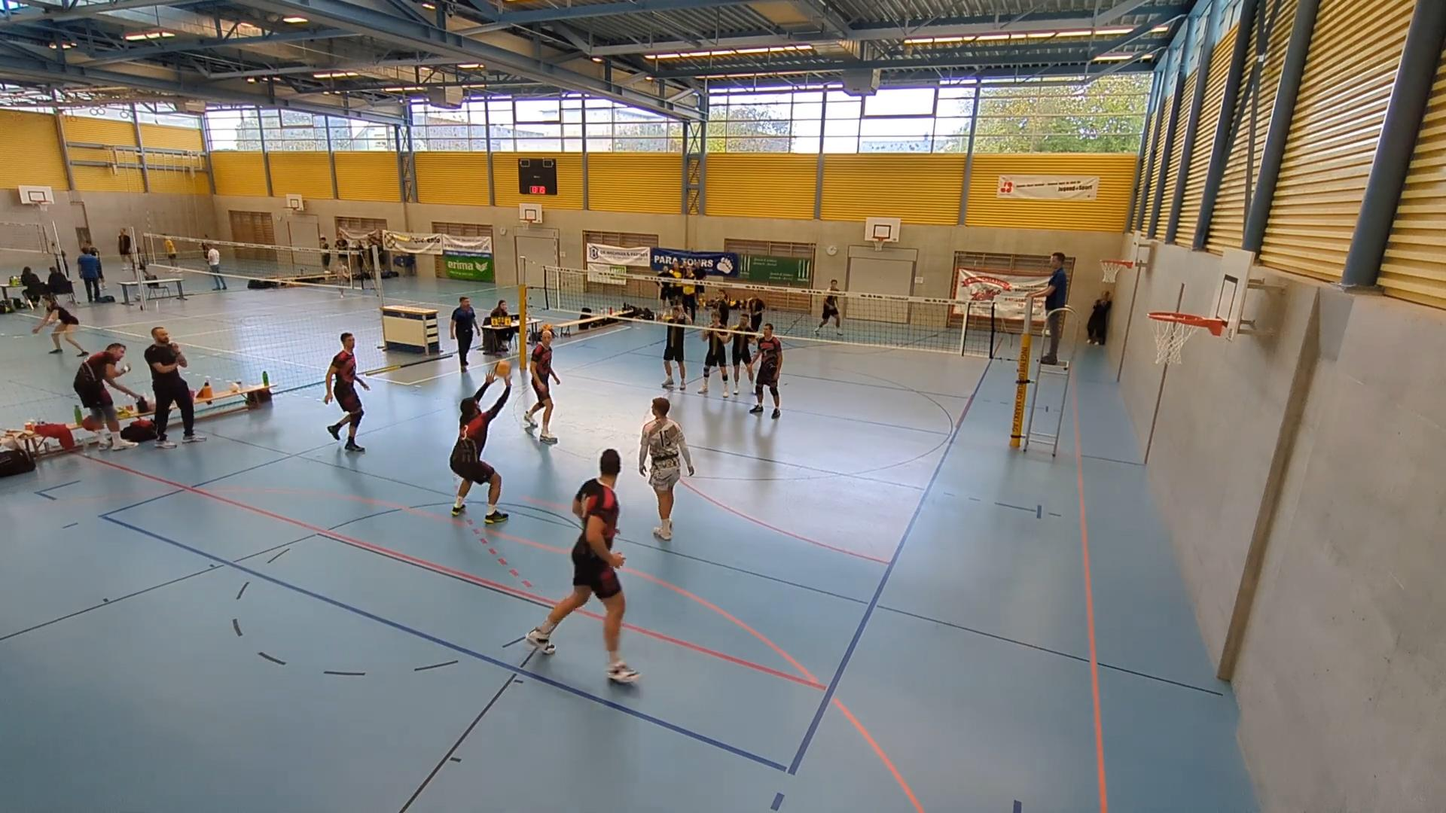Dig: (446, 356, 515, 526)
Player: (526, 449, 638, 682), (639, 397, 694, 540), (324, 332, 369, 451), (524, 329, 560, 443), (750, 323, 782, 419), (662, 303, 690, 390), (700, 312, 728, 395), (732, 311, 754, 394), (746, 294, 765, 333)
ball: (492, 357, 514, 379)
